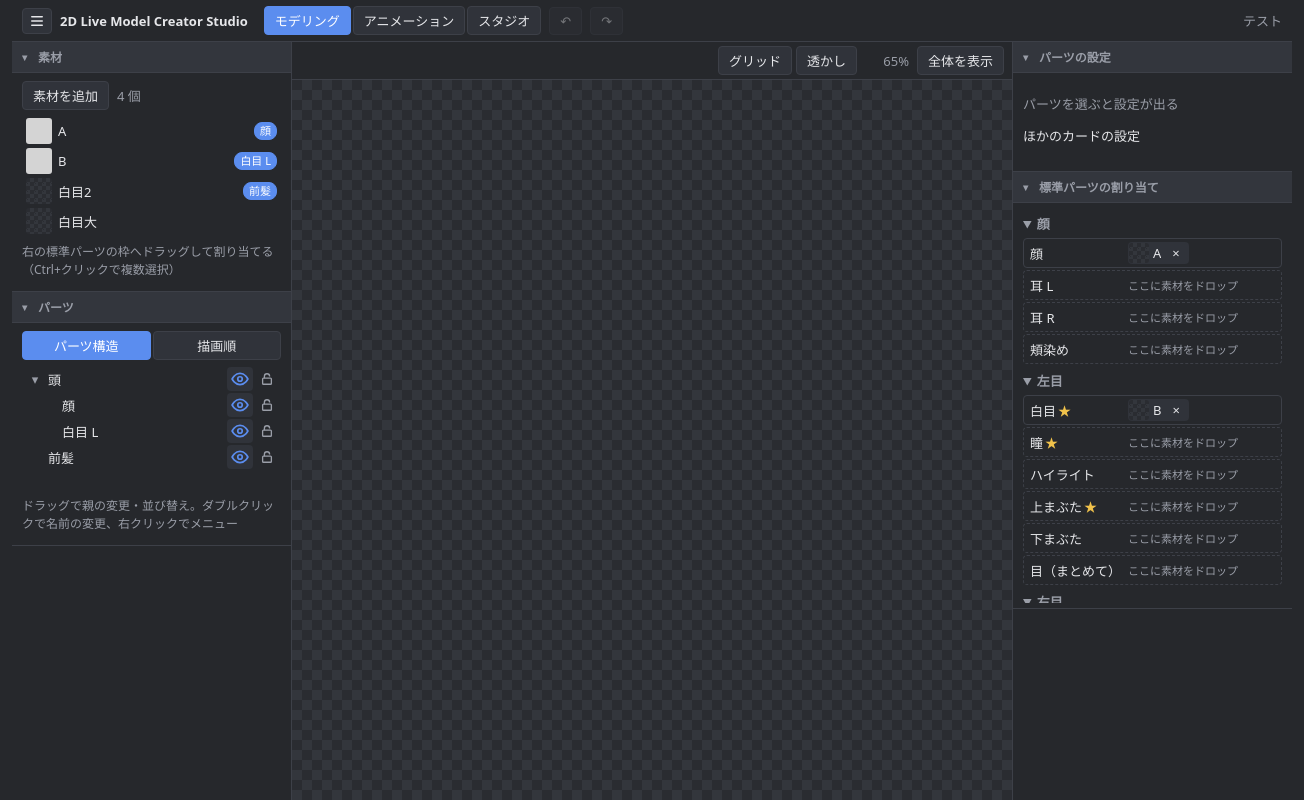
Test case: マスク › 画像パーツを選ぶとマスク元を選べ、「なし」に戻せる。下にほかのカードのセクションが入る
Check: the text "パーツを選ぶと設定が出る" is shown, box [1023, 95, 1179, 113]
Check: the text "ほかのカードの設定" is shown, box [1023, 127, 1140, 145]
Click the list item "白目 L".
click(80, 432)  # box [62, 419, 277, 443]
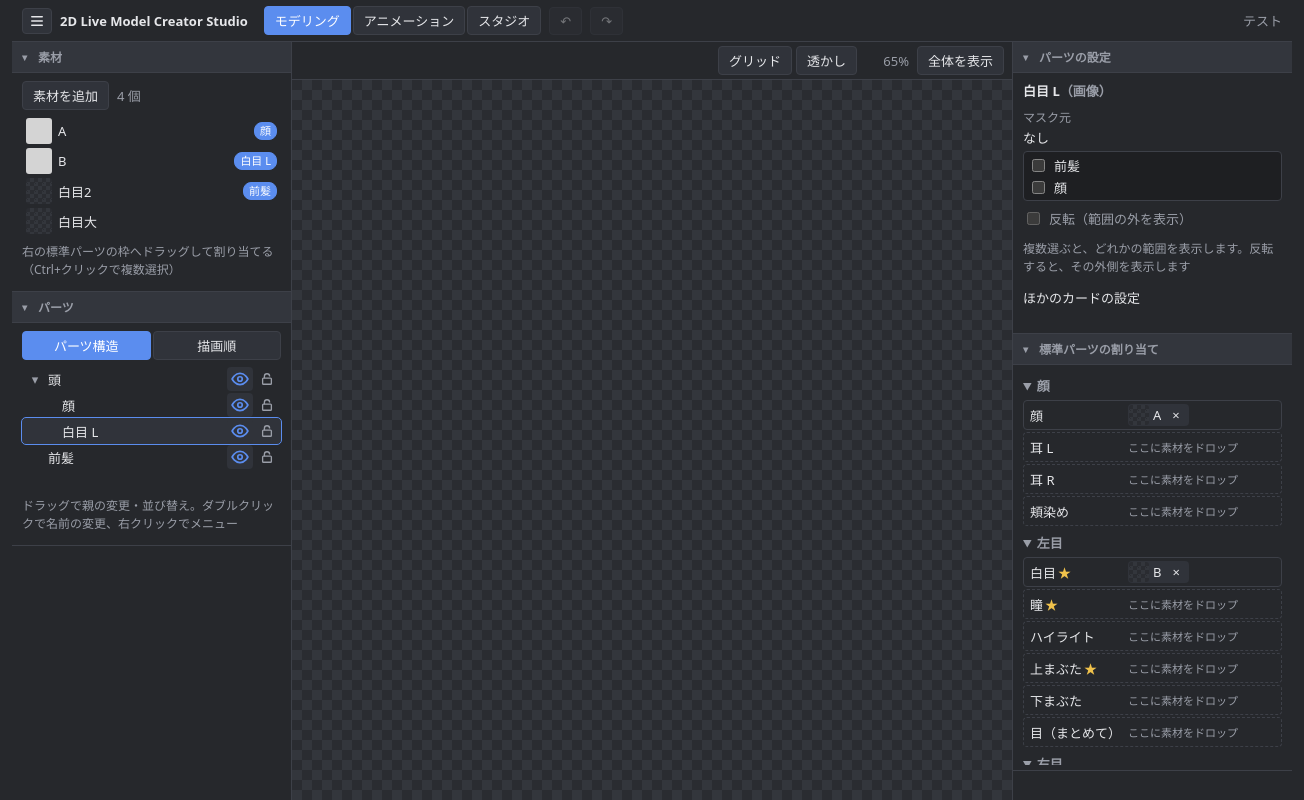
Click the checkbox labelled "顔".
click(1038, 187)  # box [1032, 180, 1045, 194]
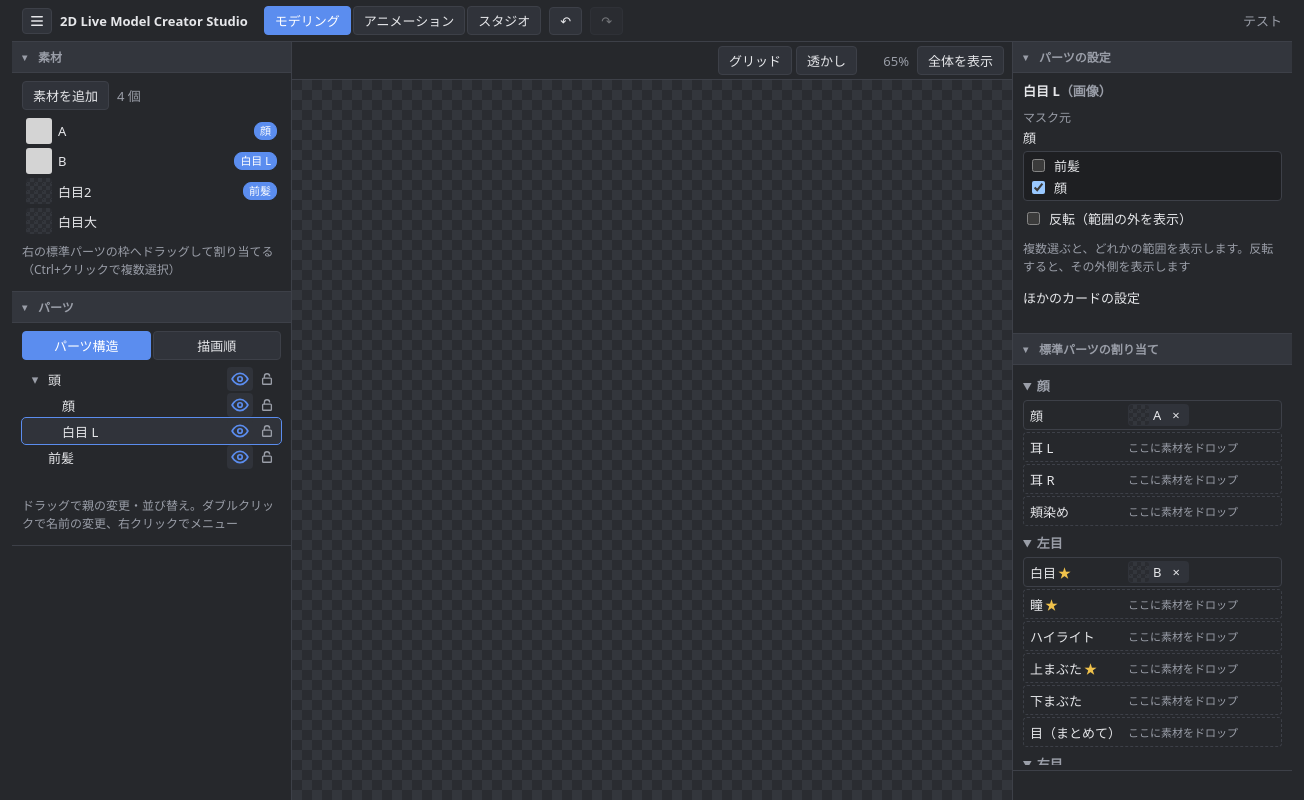
Check: the checkbox labelled "顔" is checked
Click the checkbox labelled "顔".
click(1038, 187)  # box [1032, 180, 1045, 194]
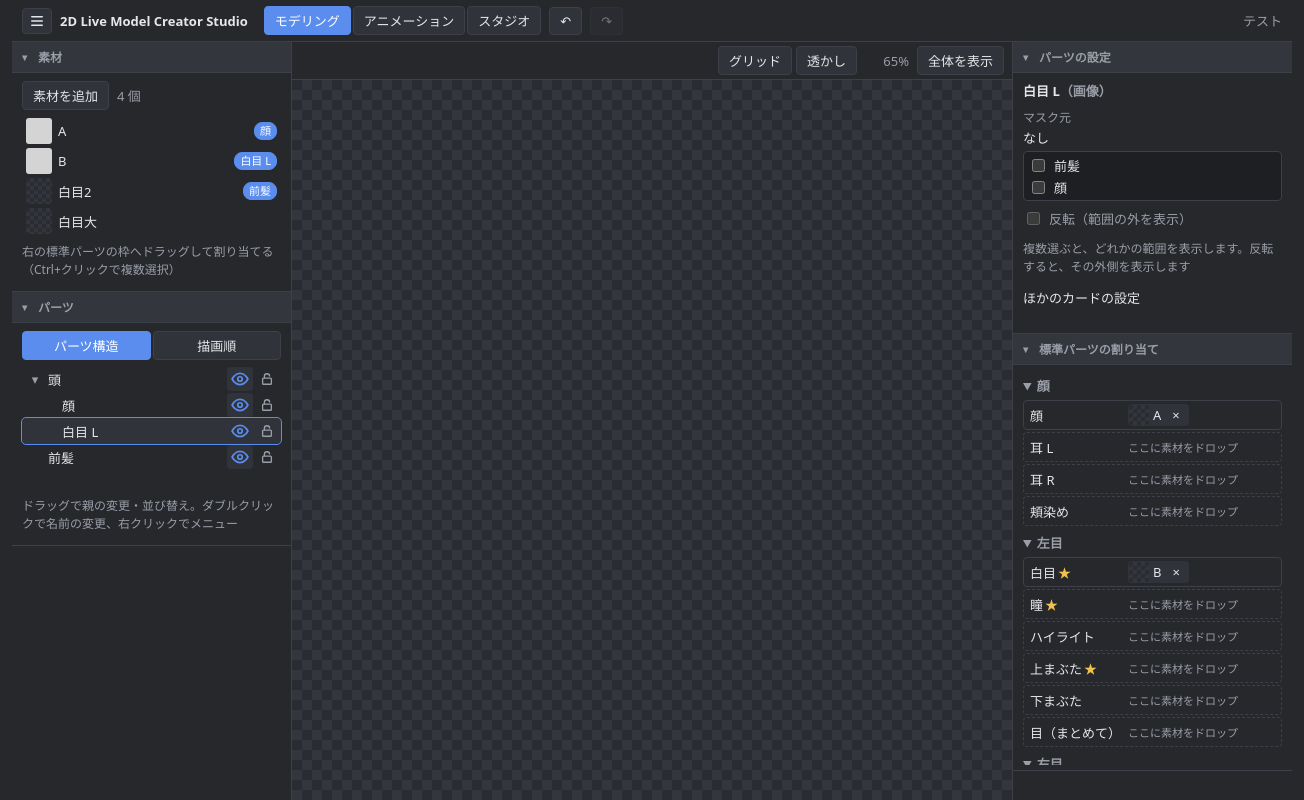
# グループにはマスクを出さない
Click the list item "▾ 頭".
click(55, 380)  # box [22, 366, 281, 392]
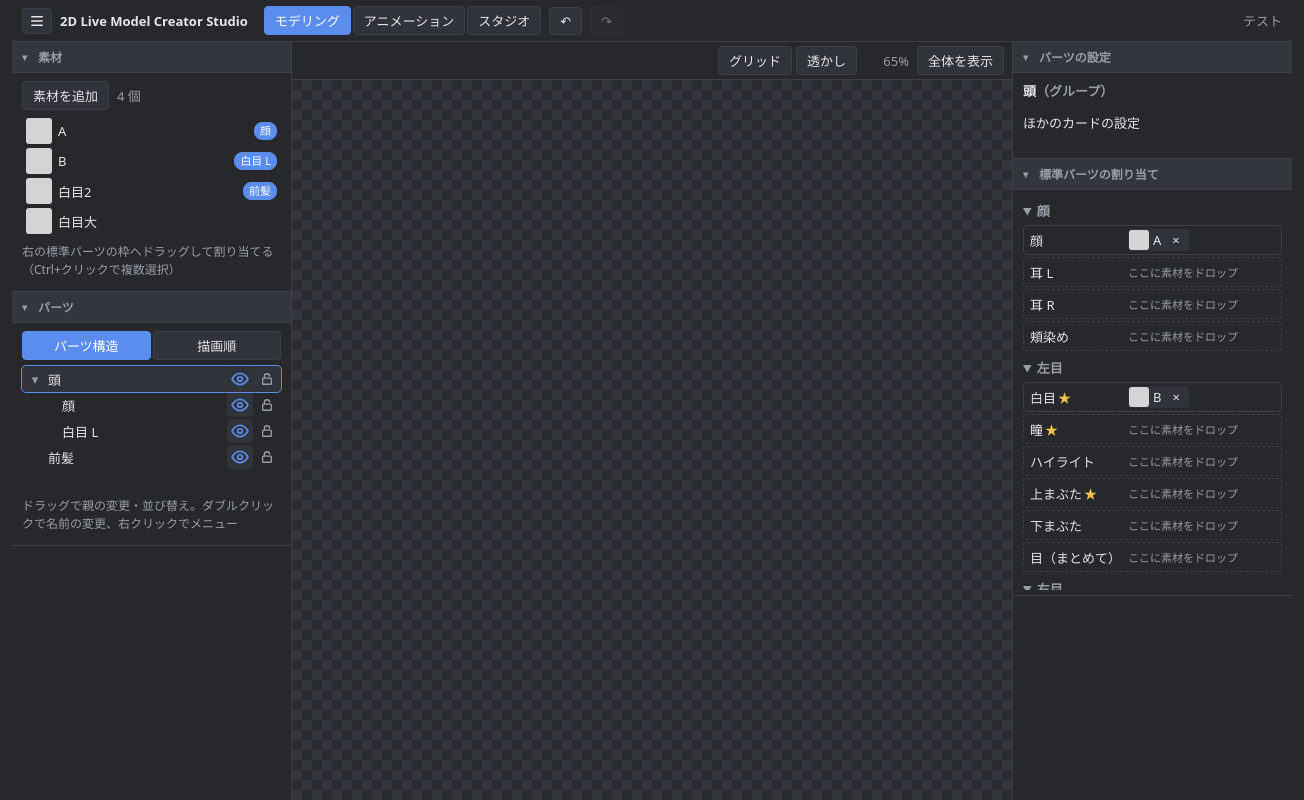
Check: the text "ほかのカードの設定" is shown, box [1023, 114, 1140, 132]
Check: the text "マスク元" is gone
